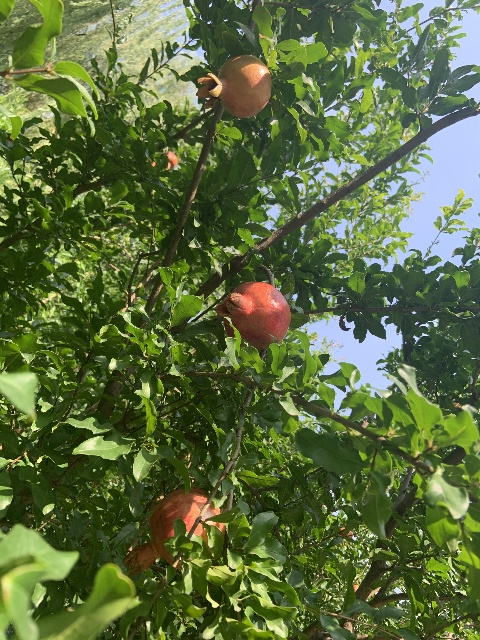ripe: (122, 487, 225, 577), (216, 281, 290, 349), (196, 54, 272, 118), (163, 150, 177, 170)
